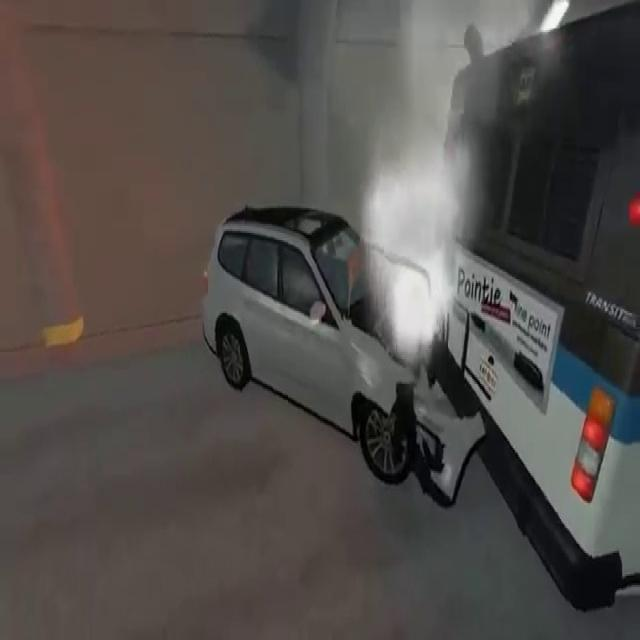severe: (195, 0, 639, 615)
